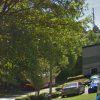Tree: (2, 0, 100, 76)
